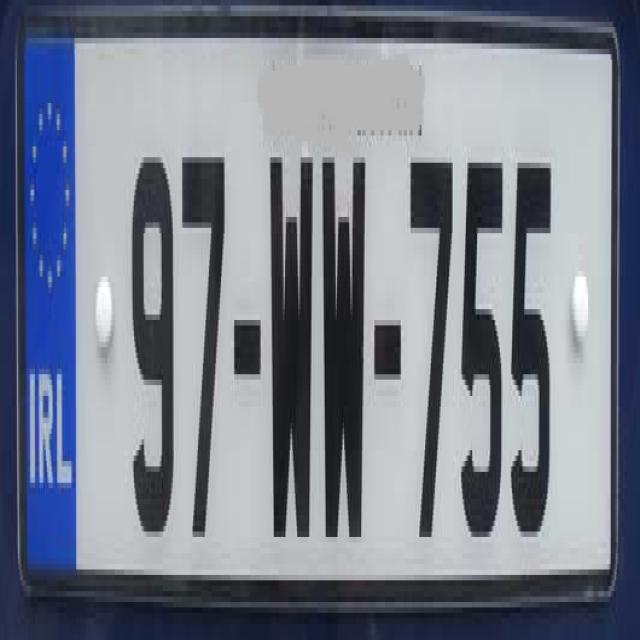EU: (21, 25, 620, 601)
Irlande: (24, 36, 78, 575)
